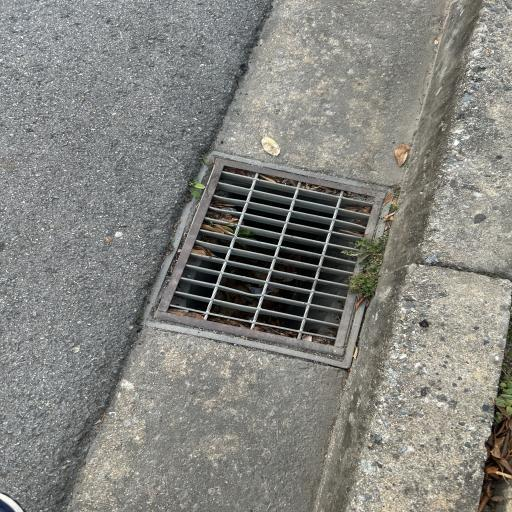debris: (340, 235, 386, 300), (202, 221, 235, 235), (207, 211, 237, 224), (171, 309, 202, 319), (192, 247, 212, 256), (212, 200, 233, 208)
drain: (155, 157, 383, 357)
